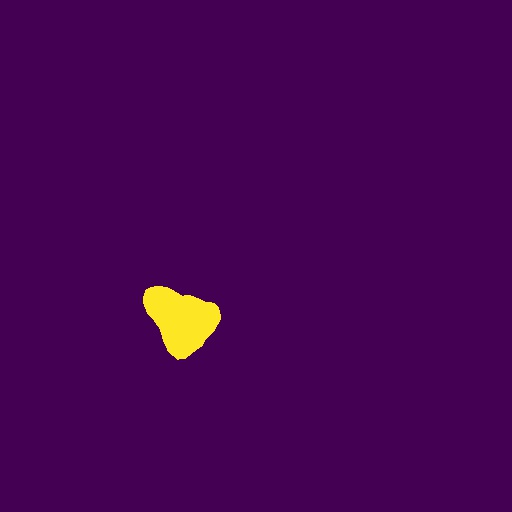Menigiomia_tumour: (143, 286, 221, 360)
